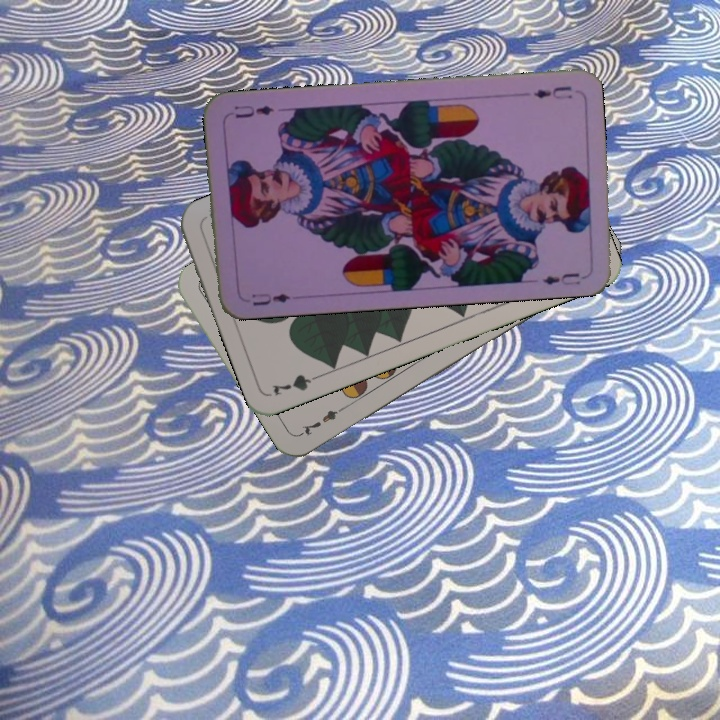E7: (297, 401, 349, 438)
EU: (529, 82, 575, 103), (247, 289, 293, 308)
G7: (268, 369, 326, 399)
